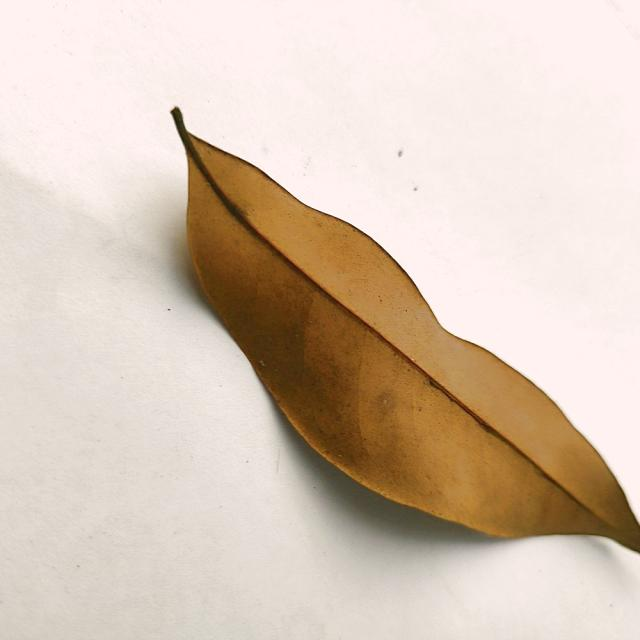Dry_Leaf-Lychee: (173, 111, 639, 556)
